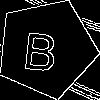B: (21, 23, 60, 72)
